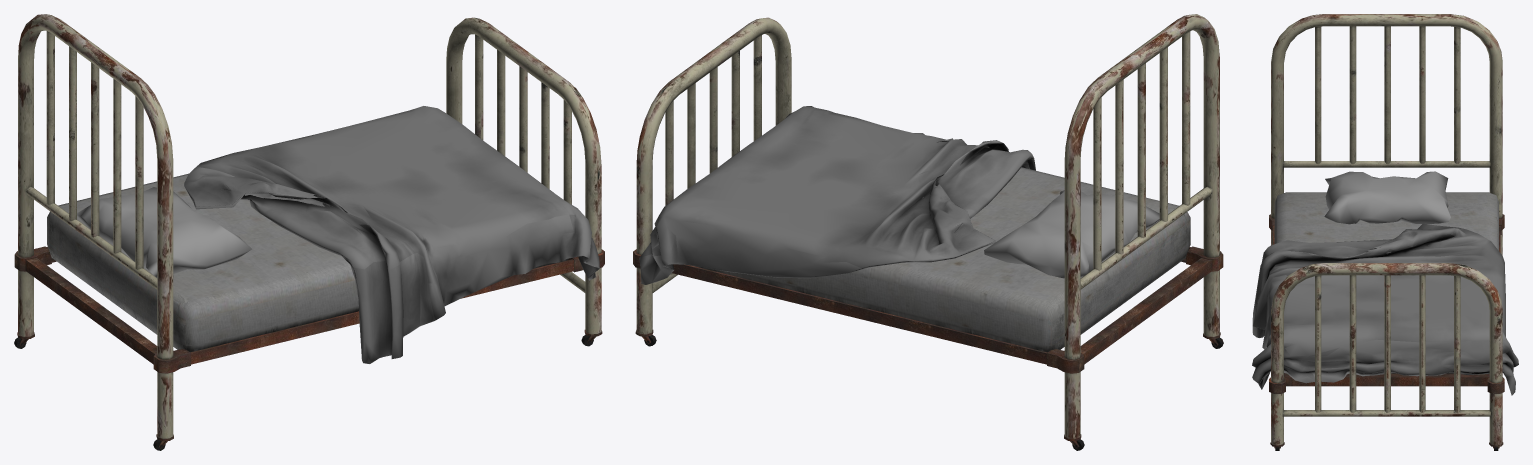
The model's file is hospital_bed.glb.
3 views of the same model, side by side, from view 1: azimuth 30°, elevation 25°; view 2: azimuth 150°, elevation 25°; view 3: azimuth 270°, elevation 25° (orthographic). The views are drawn at different scales.
Visible parts, largest first — view 1: low_Pillow_1; view 2: low_Pillow_1; view 3: low_Pillow_1.
Boxes of the visible parts, x1,y1,x2,y2 form: low_Pillow_1: (14,14,604,450); low_Pillow_1: (633,14,1223,450); low_Pillow_1: (1252,14,1518,450).
Size of the model in its own units: 187 by 139 by 123.
3 materials, 2 textured.
